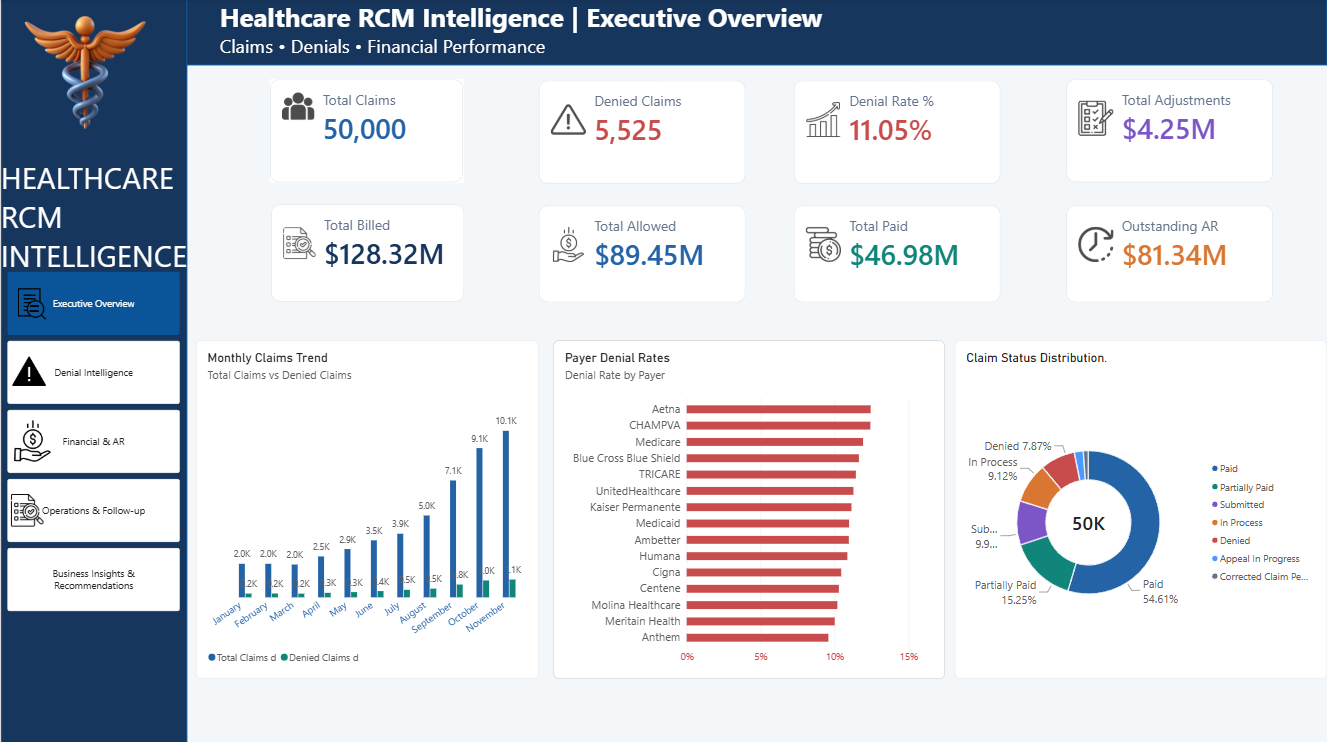

Layout of this report page (visuals, bound fields, positions):
{"tool":"powerbi","page":{"name":"Executive Overview","canvas":[1920,1080],"ordinal":0},"visuals":[{"type":"cardVisual","fields":{"Data":["fact_claims.Total Claims Display"]},"box":[389.1,115.8,280.5,150.2],"z":0},{"type":"cardVisual","fields":{"Data":["fact_claims.Denied Claims Display"]},"box":[778.2,117.6,300.4,150.2],"z":1000},{"type":"cardVisual","fields":{"Data":["fact_claims.Denial Rate %"]},"box":[1147.3,117.6,300.4,150.2],"z":2000},{"type":"cardVisual","fields":{"Data":["fact_claims.Total Billed"]},"box":[390.9,296.8,280.5,143],"z":3000},{"type":"cardVisual","fields":{"Data":["fact_claims.Total Allowed"]},"box":[778.2,298.6,300.4,141.2],"z":4000},{"type":"cardVisual","fields":{"Data":["fact_claims.Total Paid"]},"box":[1147.3,298.6,300.4,141.2],"z":5000},{"type":"cardVisual","fields":{"Data":["fact_claims.Total Adjustments"]},"box":[1541.8,115.8,300.4,150.2],"z":6000},{"type":"cardVisual","fields":{"Data":["fact_claims.Outstanding AR"]},"box":[1541.8,298.6,300.4,141.2],"z":7000},{"type":"shape","box":[0,0,1920.1,95.9],"z":8000},{"type":"textbox","box":[316.7,0,998.9,115.8],"z":9000},{"type":"clusteredColumnChart","title":"Monthly Claims Trend","fields":{"Category":["fact_claims.Service_Start_Date.Variation.Date Hierarchy.Month"],"Y":["fact_claims.Total Claims d","fact_claims.Denied Claims d"]},"box":[282.3,494,495.8,490.4],"z":10000},{"type":"clusteredBarChart","title":"Payer Denial Rates","fields":{"Category":["dim_payer.Payer_Name"],"Y":["fact_claims.Denial Rate %"]},"box":[799.9,494,566.4,490.4],"z":11000},{"type":"donutChart","title":"Claim Status Distribution.","fields":{"Category":["fact_claims.Claim_Status"],"Y":["fact_claims.Total Claims d"]},"box":[1380.8,494,539.3,490.4],"z":12000},{"type":"shape","box":[0,0,269.6,1080.4],"z":13000},{"type":"textbox","box":[0,228.4,270.3,180.8],"z":14000},{"type":"pageNavigator","box":[9,394.5,250,492.9],"z":14001},{"type":"image","box":[20.9,0,199.8,213.2],"z":14002},{"type":"image","box":[19.9,389.1,45.2,105],"z":14003},{"type":"image","box":[16.3,474.1,48.9,128.5],"z":14004},{"type":"image","box":[9,609.9,72.4,59.7],"z":14005},{"type":"image","box":[0,716.6,76,47.1],"z":14006}]}

Visuals, with their boxes on the page's 1920x1080 design canvas (x1, y1, x2, y2). These are canvas units, not pixel positions in the 1327x742 screenshot, which may show the page scaled, cropped or inside an application window:
cardVisual - fact_claims.Total Claims Display: bbox=[389, 116, 670, 266]
cardVisual - fact_claims.Denied Claims Display: bbox=[778, 118, 1079, 268]
cardVisual - fact_claims.Denial Rate %: bbox=[1147, 118, 1448, 268]
cardVisual - fact_claims.Total Billed: bbox=[391, 297, 671, 440]
cardVisual - fact_claims.Total Allowed: bbox=[778, 299, 1079, 440]
cardVisual - fact_claims.Total Paid: bbox=[1147, 299, 1448, 440]
cardVisual - fact_claims.Total Adjustments: bbox=[1542, 116, 1842, 266]
cardVisual - fact_claims.Outstanding AR: bbox=[1542, 299, 1842, 440]
shape: bbox=[0, 0, 1920, 96]
textbox: bbox=[317, 0, 1316, 116]
"Monthly Claims Trend" clusteredColumnChart: bbox=[282, 494, 778, 984]
"Payer Denial Rates" clusteredBarChart: bbox=[800, 494, 1366, 984]
"Claim Status Distribution." donutChart: bbox=[1381, 494, 1920, 984]
shape: bbox=[0, 0, 270, 1080]
textbox: bbox=[0, 228, 270, 409]
pageNavigator: bbox=[9, 394, 259, 887]
image: bbox=[21, 0, 221, 213]
image: bbox=[20, 389, 65, 494]
image: bbox=[16, 474, 65, 603]
image: bbox=[9, 610, 81, 670]
image: bbox=[0, 717, 76, 764]
